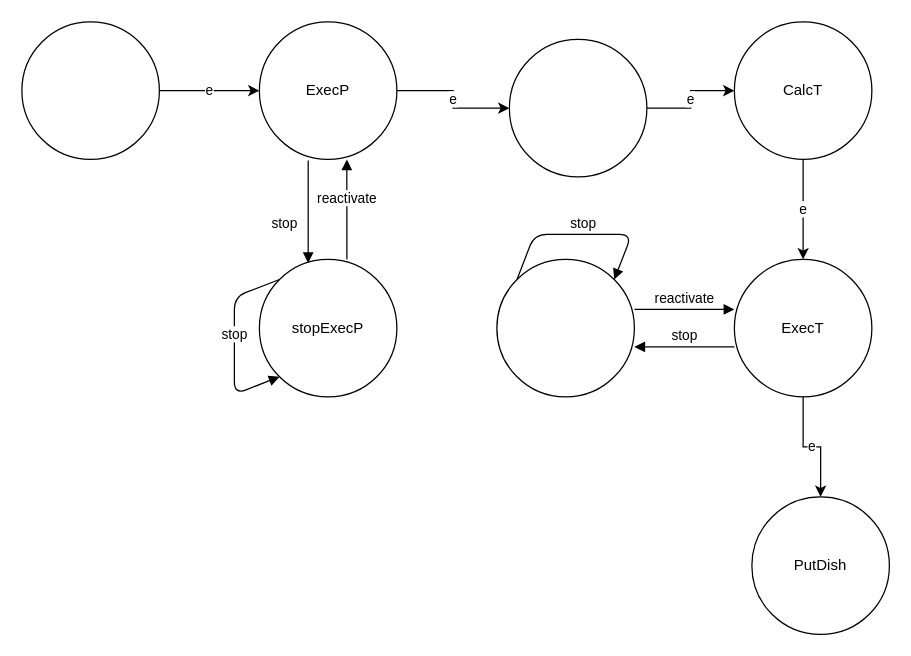
This 911x656 diagram has some shape labels left out. The shapes that lost their labels are listed below. From the top down, each one's box as (x1, y1, x2, y2) in pixels, then its label:
(21, 21, 159, 159): CalcP
(508, 38, 647, 177): TakeDish
(496, 258, 634, 397): StopExecT
